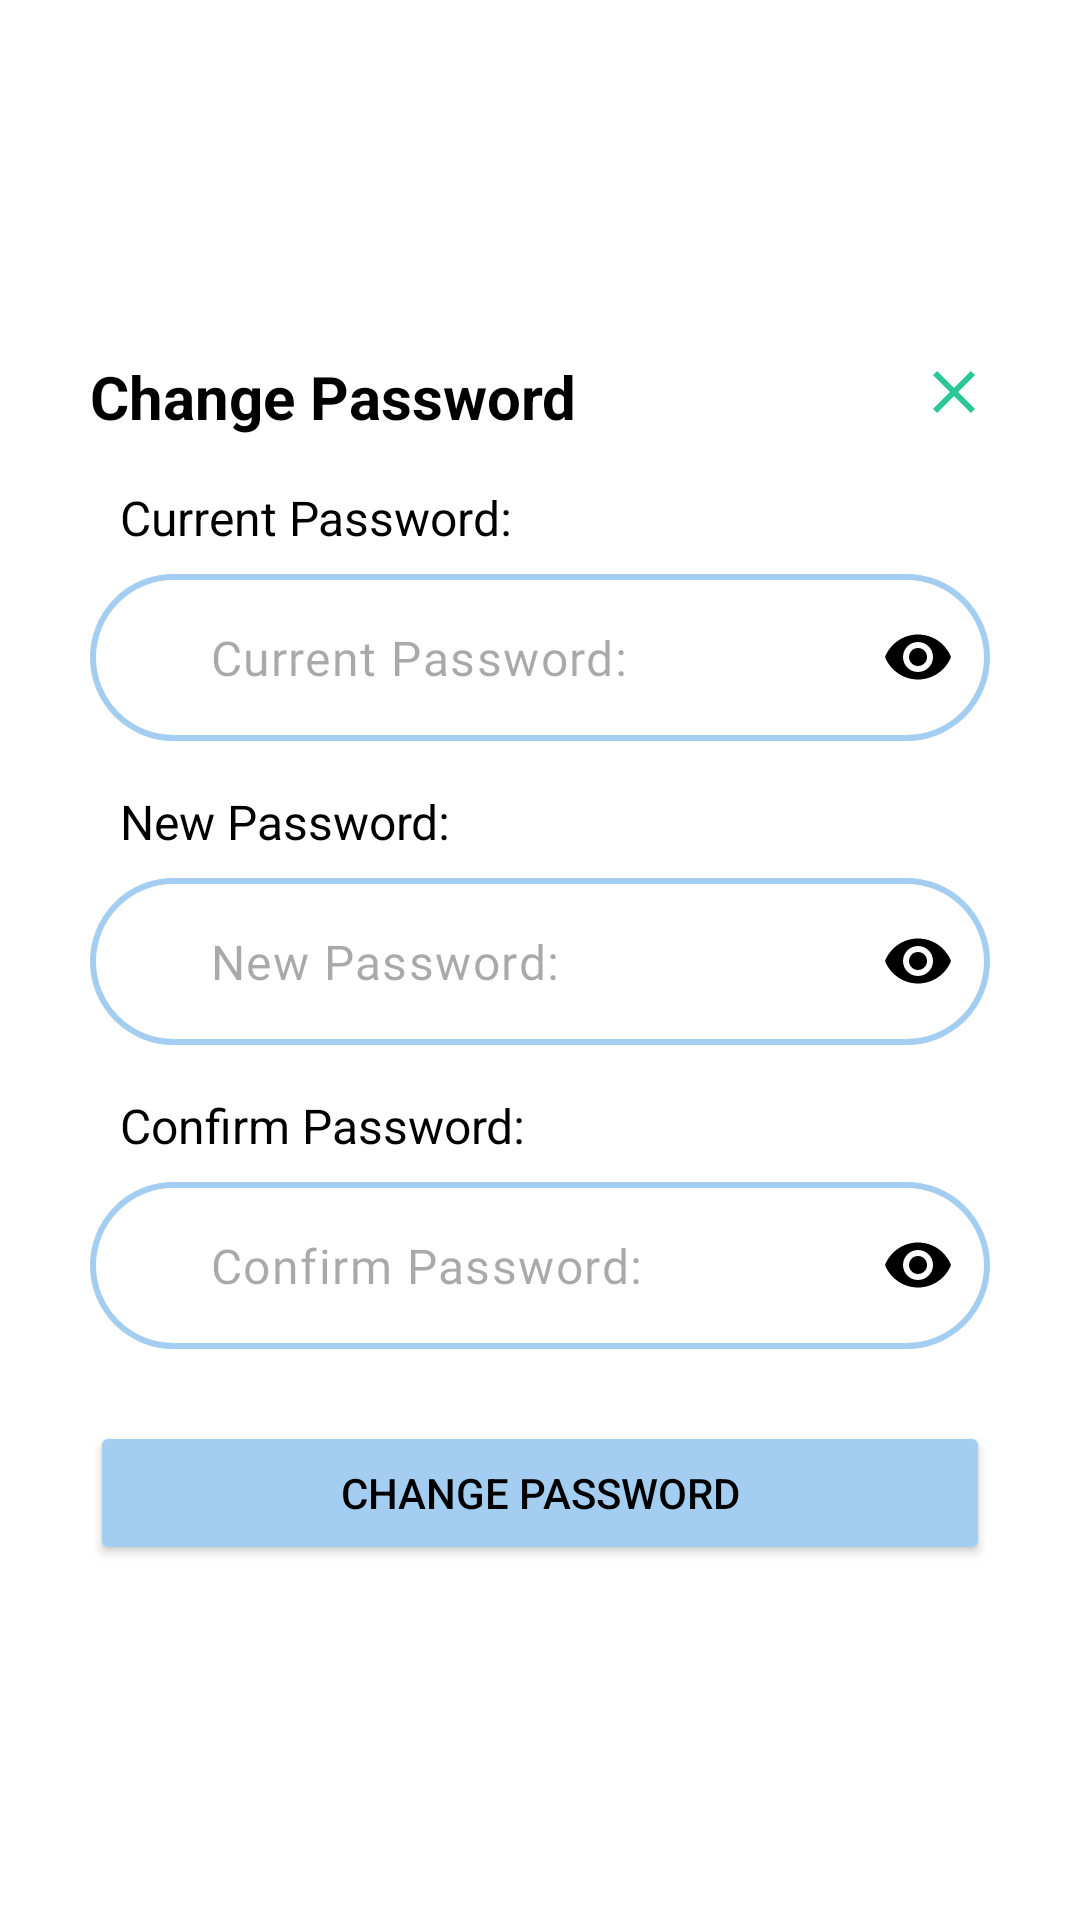

Icons on this 1080 x 1920 Android screen, each with the point to tap as point (x, y):
close: point (954, 392)
